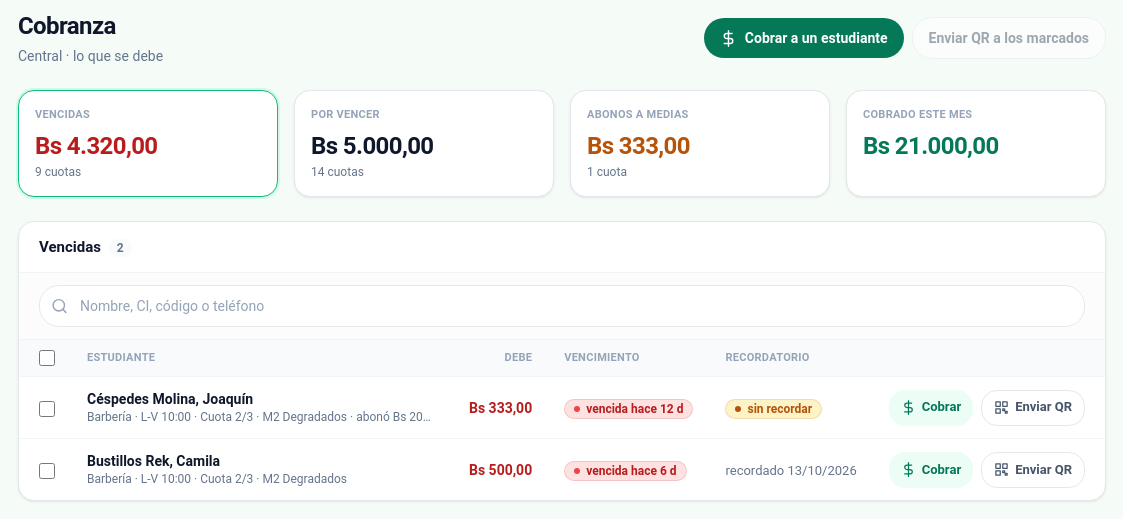
it: N7 · cobranza › D10: el buscador manda `q` al servidor (con demora) y la lista, el contador y los totales son los de la respuesta
Type "camila" into the field with placeholder "Nombre, CI, código o teléfono" at [562, 306], box [39, 285, 1085, 327]
Wait 350 ms
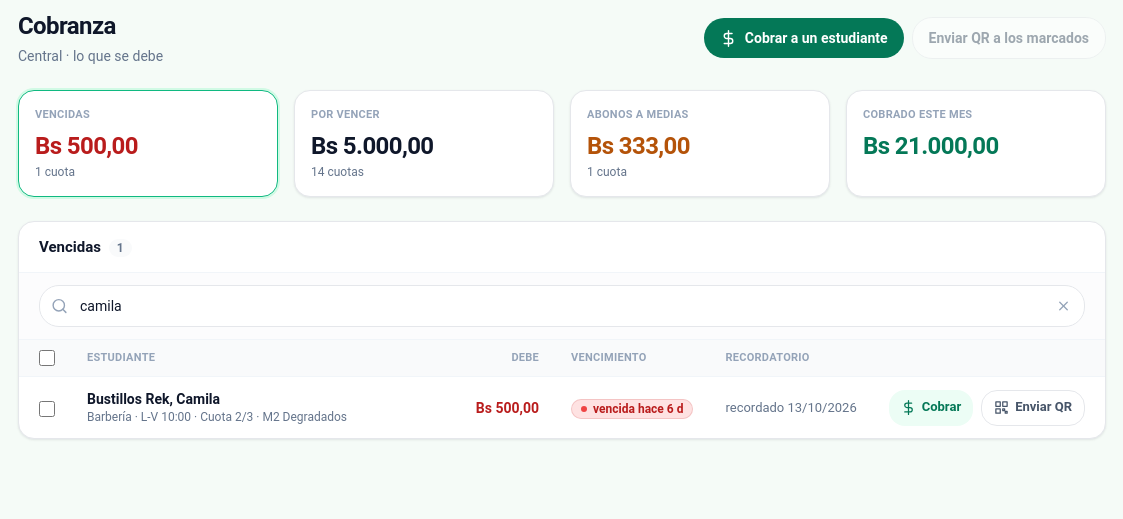
Expected: the text "Bustillos Rek, Camila" is shown, [87, 391, 220, 407]
Expected: no buttons "Céspedes Molina, Joaquín" are shown
Expected: the button "Vencidas Bs 500,00 1 cuota" is shown, [18, 90, 278, 196]
